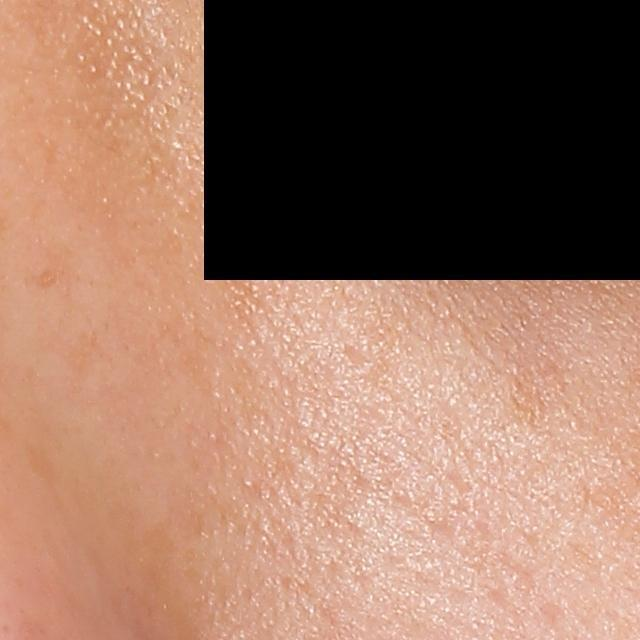melasma: (504, 355, 568, 441)
